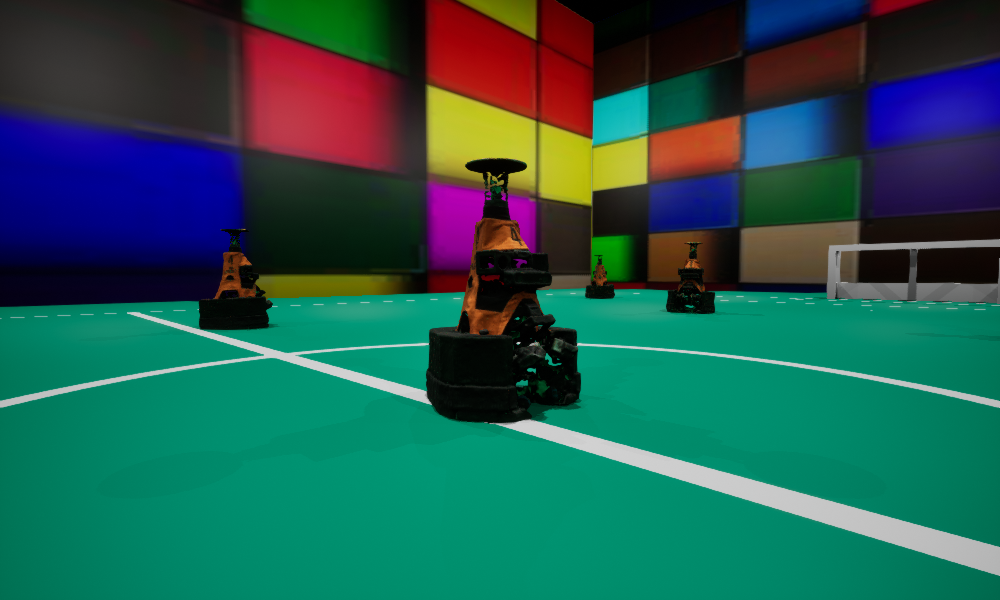o: (426, 158, 580, 422), (199, 229, 272, 329), (666, 242, 714, 312), (585, 255, 614, 298)
